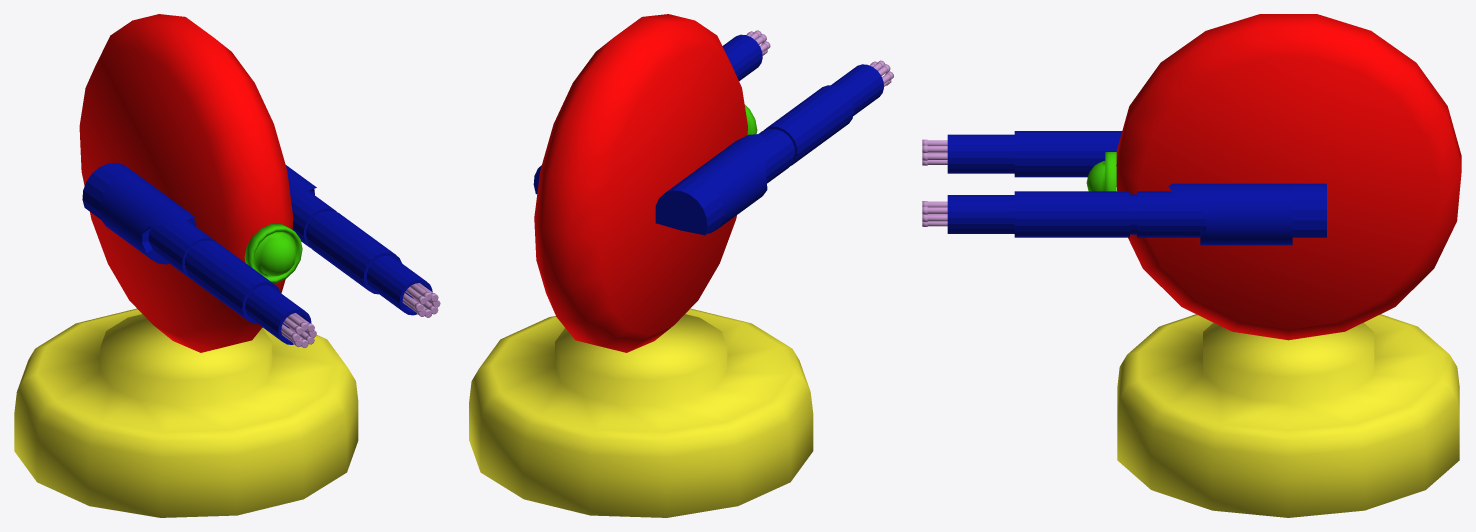
File: TurretExport.FBX
The picture shows the model from 3 angles, left to right: view 1: azimuth 30°, elevation 25°; view 2: azimuth 150°, elevation 25°; view 3: azimuth 270°, elevation 25°; orthographic projection.
Visible parts, largest first — view 1: TurrretTurnTable, BurretMainBody, MiniGunBase001, MiniGunBase, Camera, BArrels, BArrels001; view 2: TurrretTurnTable, BurretMainBody, MiniGunBase001, MiniGunBase; view 3: BurretMainBody, TurrretTurnTable, MiniGunBase, MiniGunBase001, Camera, BArrels, BArrels001.
Part boxes in pixels (bbox=[...]): TurrretTurnTable: bbox=[14, 308, 358, 517]; BurretMainBody: bbox=[79, 14, 293, 352]; MiniGunBase001: bbox=[82, 163, 311, 344]; MiniGunBase: bbox=[286, 165, 432, 315]; Camera: bbox=[244, 223, 302, 283]; BArrels: bbox=[402, 283, 440, 317]; BArrels001: bbox=[281, 313, 316, 347]; TurrretTurnTable: bbox=[469, 308, 813, 517]; BurretMainBody: bbox=[534, 14, 747, 352]; MiniGunBase001: bbox=[655, 64, 883, 235]; MiniGunBase: bbox=[533, 34, 762, 194]; BurretMainBody: bbox=[1116, 14, 1461, 340]; TurrretTurnTable: bbox=[1117, 314, 1459, 517]; MiniGunBase: bbox=[947, 183, 1326, 245]; MiniGunBase001: bbox=[947, 131, 1122, 177]; Camera: bbox=[1086, 152, 1116, 191]; BArrels: bbox=[922, 201, 947, 226]; BArrels001: bbox=[922, 139, 947, 165].
Bounding box in the file's own units: 14.98 × 19.9 × 23.
